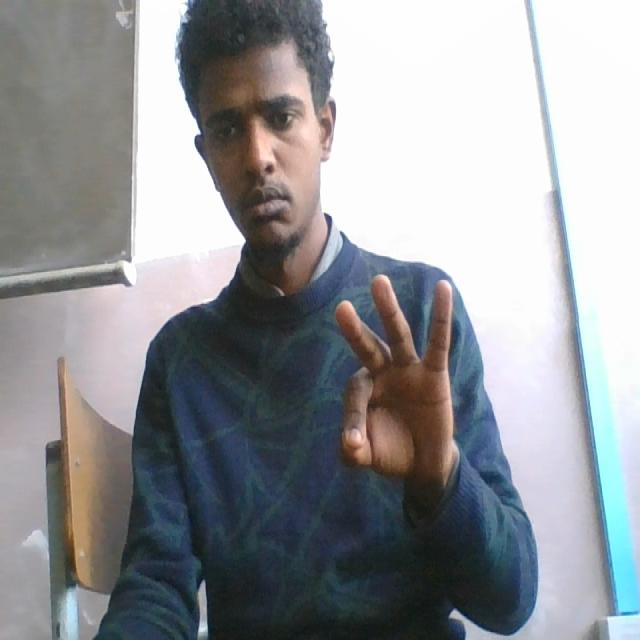wet: (329, 274, 460, 499)
